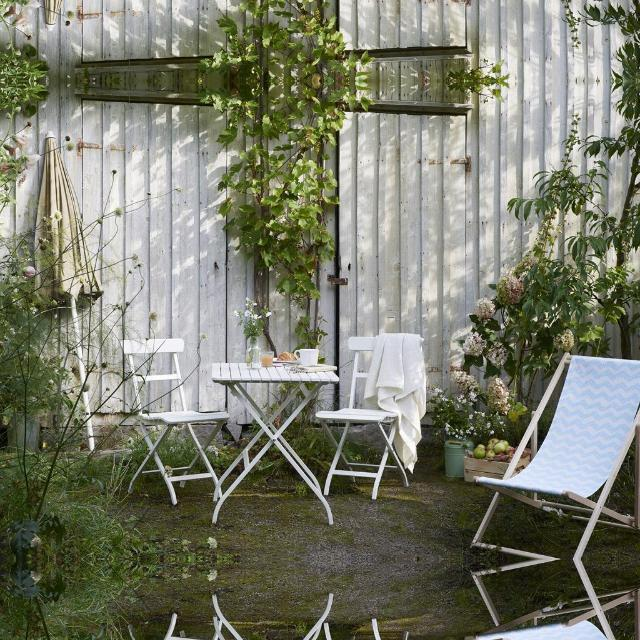obstacle: (468, 350, 640, 558), (207, 354, 341, 526), (115, 331, 223, 507), (336, 329, 428, 497), (468, 558, 640, 640), (207, 590, 341, 640), (115, 610, 223, 640), (335, 619, 428, 640)
